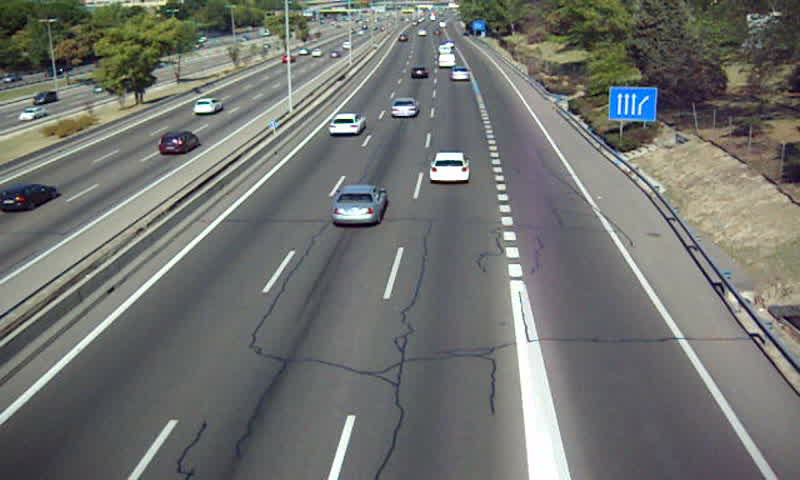car: (330, 185, 385, 225), (429, 152, 470, 184), (328, 112, 365, 137), (391, 97, 420, 119), (450, 66, 471, 82), (408, 66, 428, 80)
van: (437, 54, 457, 68), (439, 44, 453, 56)
